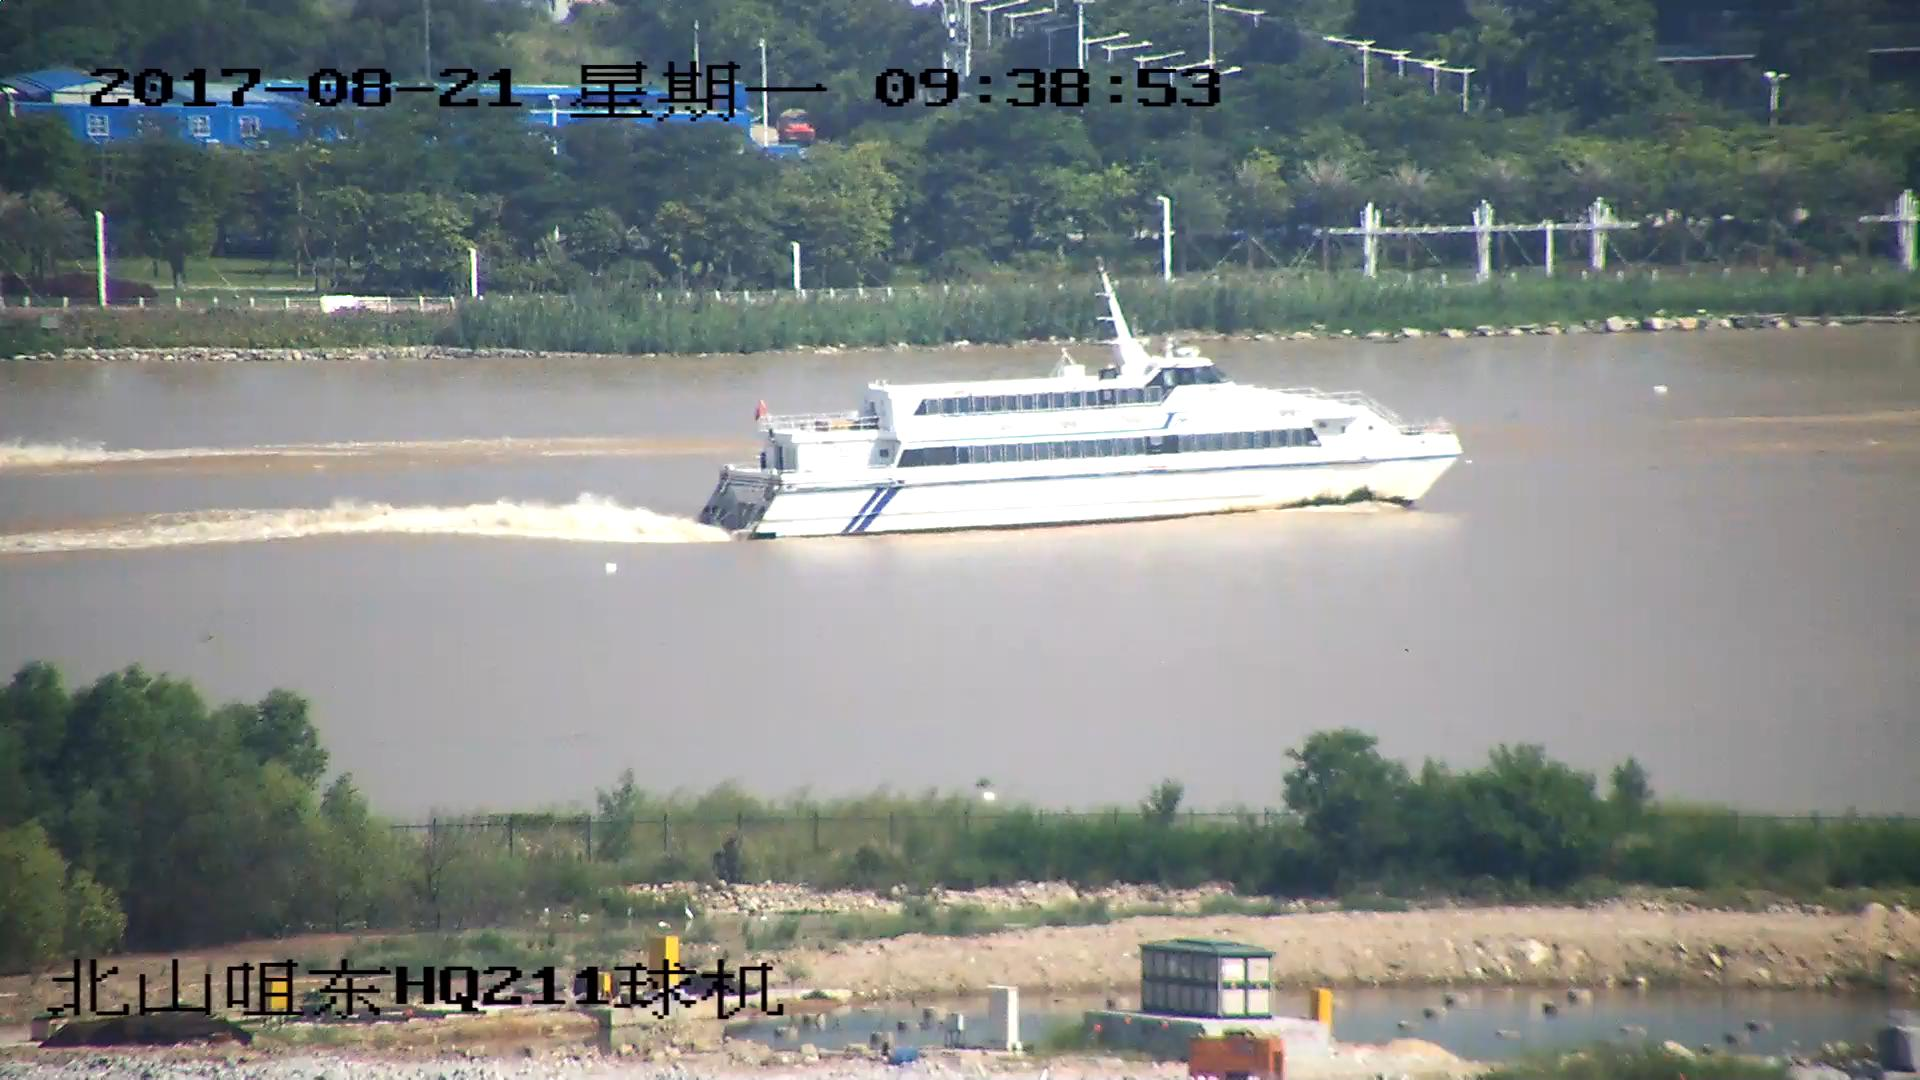passenger ship: (698, 281, 1466, 541)
